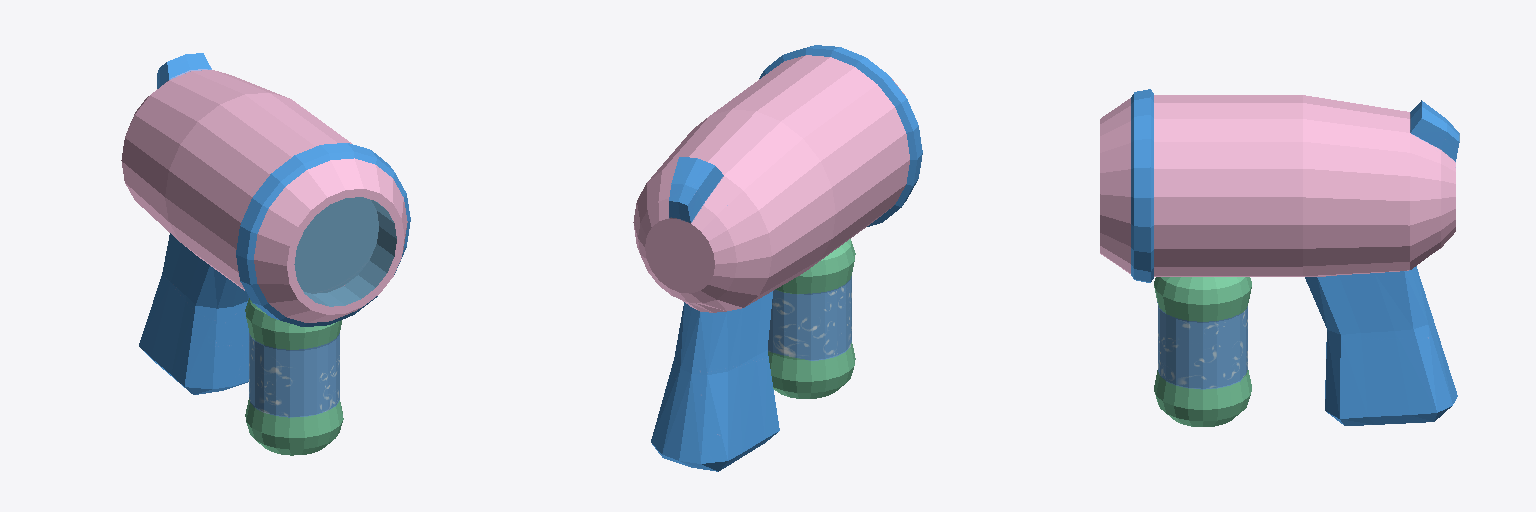
3 renders of one model, left to right at view 1: azimuth 30°, elevation 25°; view 2: azimuth 150°, elevation 25°; view 3: azimuth 270°, elevation 25°, orthographic.
Parts seen in each view (by area): view 1: gun_initialShadingGroup; view 2: gun_initialShadingGroup; view 3: gun_initialShadingGroup.
Part boxes in pixels (x1,y1,x2,y2): gun_initialShadingGroup: (121,53,410,455); gun_initialShadingGroup: (633,45,922,471); gun_initialShadingGroup: (1100,89,1459,426).
Size of the model in its own units: 4.85 by 8.66 by 8.89.
1 materials, 1 textured.